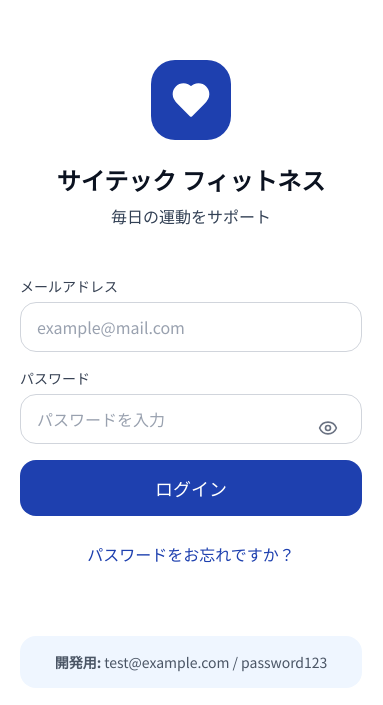
Scenario: U-01 Login › form validation › should show error when email is empty on submit
This screenshot has width=383, height=705.
Type "password123" into the password field labelled "パスワード" at (191, 419), box [20,394,362,444]
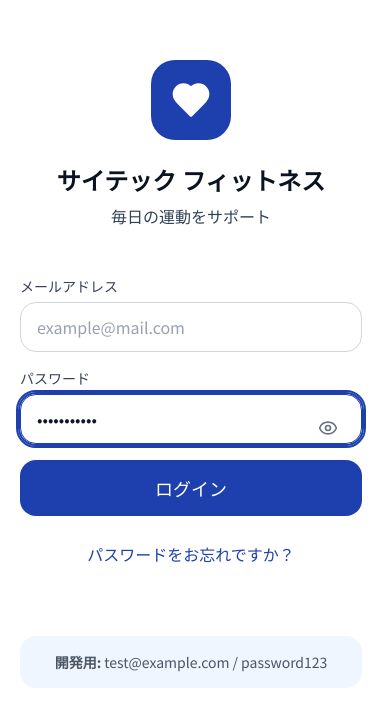
Click the button "ログイン" at (191, 488), box [20,460,362,516]
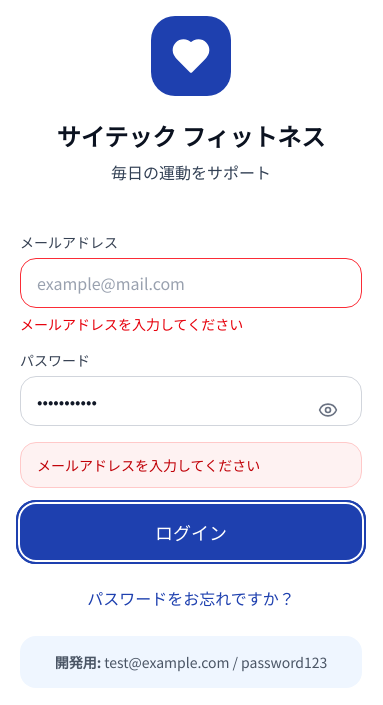
Now the 1st text "メールアドレスを入力してください" is shown, box [20,314,243,334]
